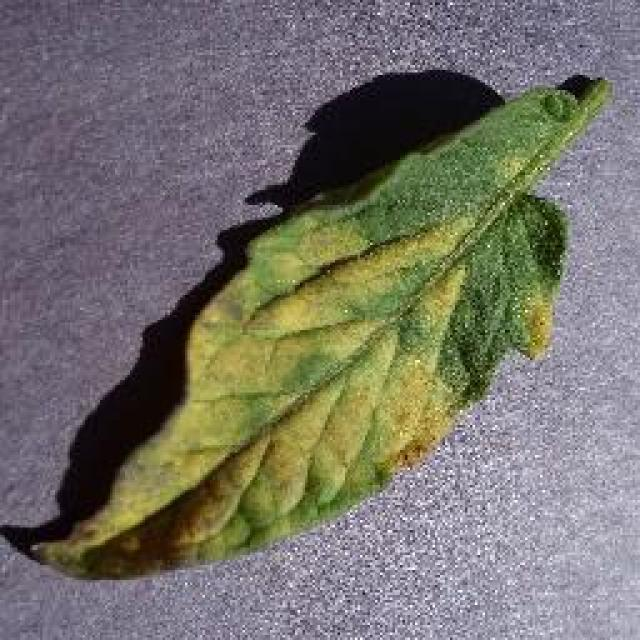leaf mold: (26, 79, 616, 585)
